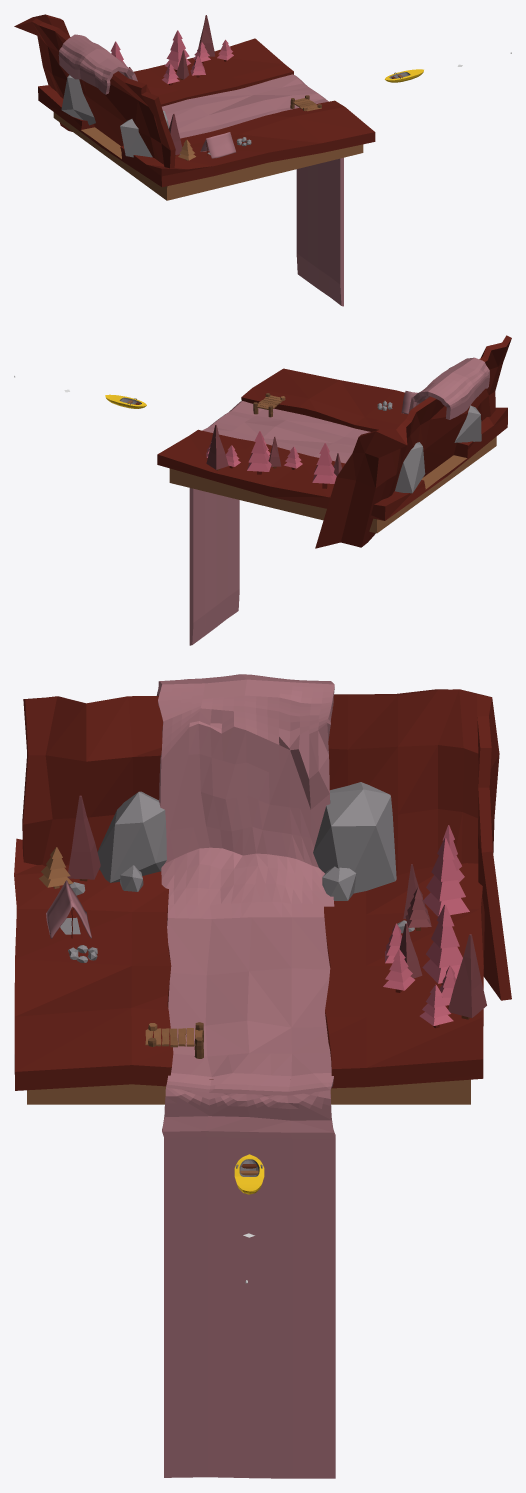
The model's file is waterfallV5.glb.
The picture shows the model from 3 angles, top to bottom: view 1: azimuth 30°, elevation 25°; view 2: azimuth 150°, elevation 25°; view 3: azimuth 270°, elevation 25°; orthographic projection. The views are drawn at different scales.
Parts seen in each view (by area): view 1: Flor, River, Cliff, Roc 2.001, Roc 2, Plan, Arbre 2.008, Arbre 1.002; view 2: Flor, River, Cliff, Roc 2.001, Roc 2, Arbre 2.007, Arbre 2.008, Arbre 1.002, Boat; view 3: River, Flor, Cliff, Roc 2.001, Roc 2, Arbre 2.007, Arbre 1.002, Arbre 2.008, Arbre 1.003, Plan, Roc.
Part boxes in pixels (x1=…): Flor: x1=38, y1=38, x2=375, y2=200; River: x1=58, y1=34, x2=343, y2=306; Cliff: x1=14, y1=14, x2=175, y2=168; Roc 2.001: x1=61, y1=75, x2=95, y2=125; Roc 2: x1=120, y1=111, x2=169, y2=157; Plan: x1=200, y1=132, x2=235, y2=158; Arbre 2.008: x1=165, y1=30, x2=190, y2=71; Arbre 1.002: x1=198, y1=15, x2=215, y2=57; Flor: x1=157, y1=368, x2=507, y2=533; River: x1=189, y1=357, x2=489, y2=645; Cliff: x1=315, y1=335, x2=511, y2=548; Roc 2.001: x1=395, y1=442, x2=425, y2=493; Roc 2: x1=454, y1=405, x2=481, y2=442; Arbre 2.007: x1=312, y1=443, x2=336, y2=488; Arbre 2.008: x1=247, y1=431, x2=271, y2=474; Arbre 1.002: x1=206, y1=425, x2=228, y2=470; Boat: x1=105, y1=394, x2=146, y2=408; River: x1=156, y1=674, x2=335, y2=1478; Flor: x1=14, y1=838, x2=484, y2=1104; Cliff: x1=22, y1=689, x2=511, y2=1000; Roc 2.001: x1=313, y1=782, x2=396, y2=893; Roc 2: x1=97, y1=791, x2=166, y2=882; Arbre 2.007: x1=423, y1=838, x2=469, y2=916; Arbre 1.002: x1=448, y1=934, x2=486, y2=1019; Arbre 2.008: x1=422, y1=904, x2=462, y2=984; Arbre 1.003: x1=67, y1=795, x2=100, y2=881; Plan: x1=46, y1=880, x2=91, y2=938; Roc: x1=322, y1=866, x2=356, y2=900.
Bounding box in the file's own units: 17.28 × 11.3 × 8.75.
